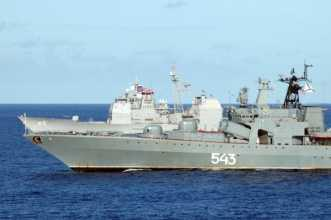warship: (16, 61, 331, 173)
